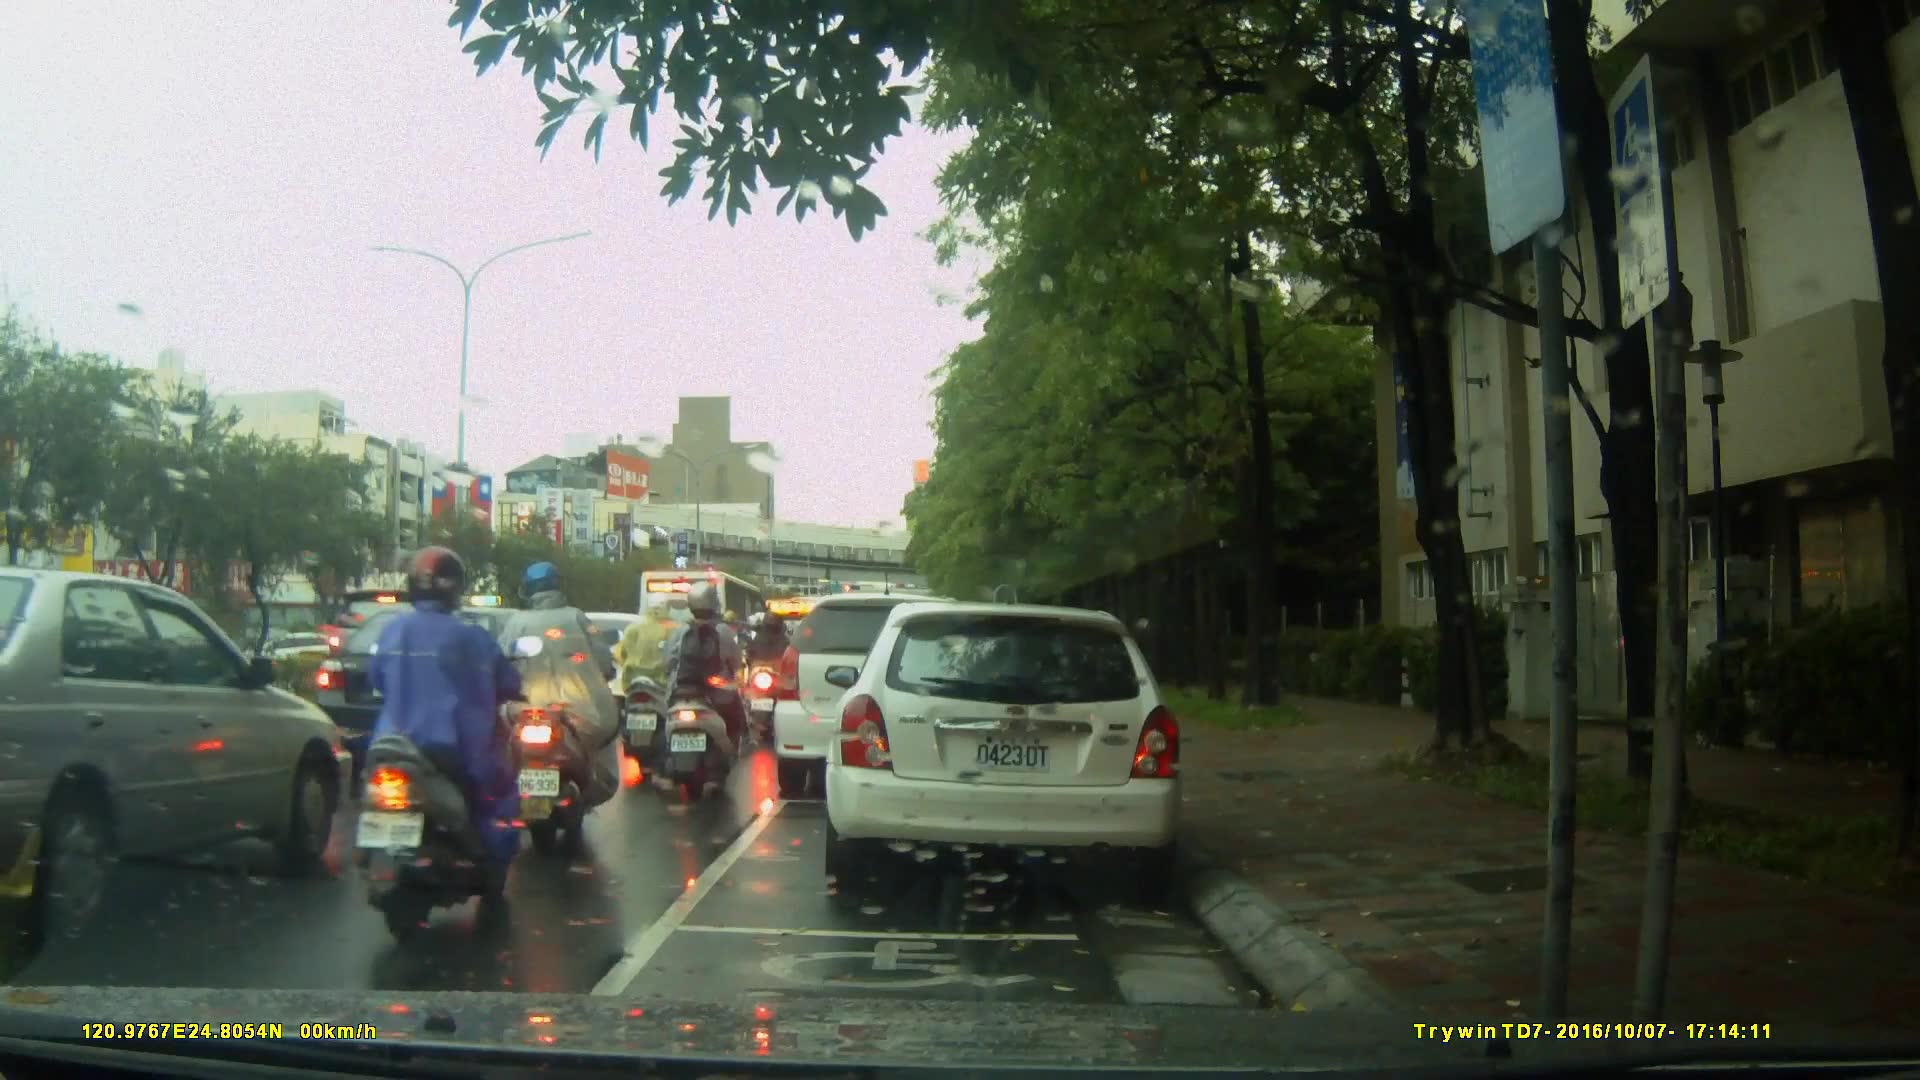rider: (359, 542, 522, 939), (486, 556, 611, 853), (656, 588, 741, 797), (615, 601, 694, 768), (740, 612, 793, 740)
vehicle: (2, 569, 355, 959), (831, 592, 1196, 897), (768, 592, 999, 802), (318, 605, 551, 769), (634, 568, 771, 701), (518, 611, 656, 722)
